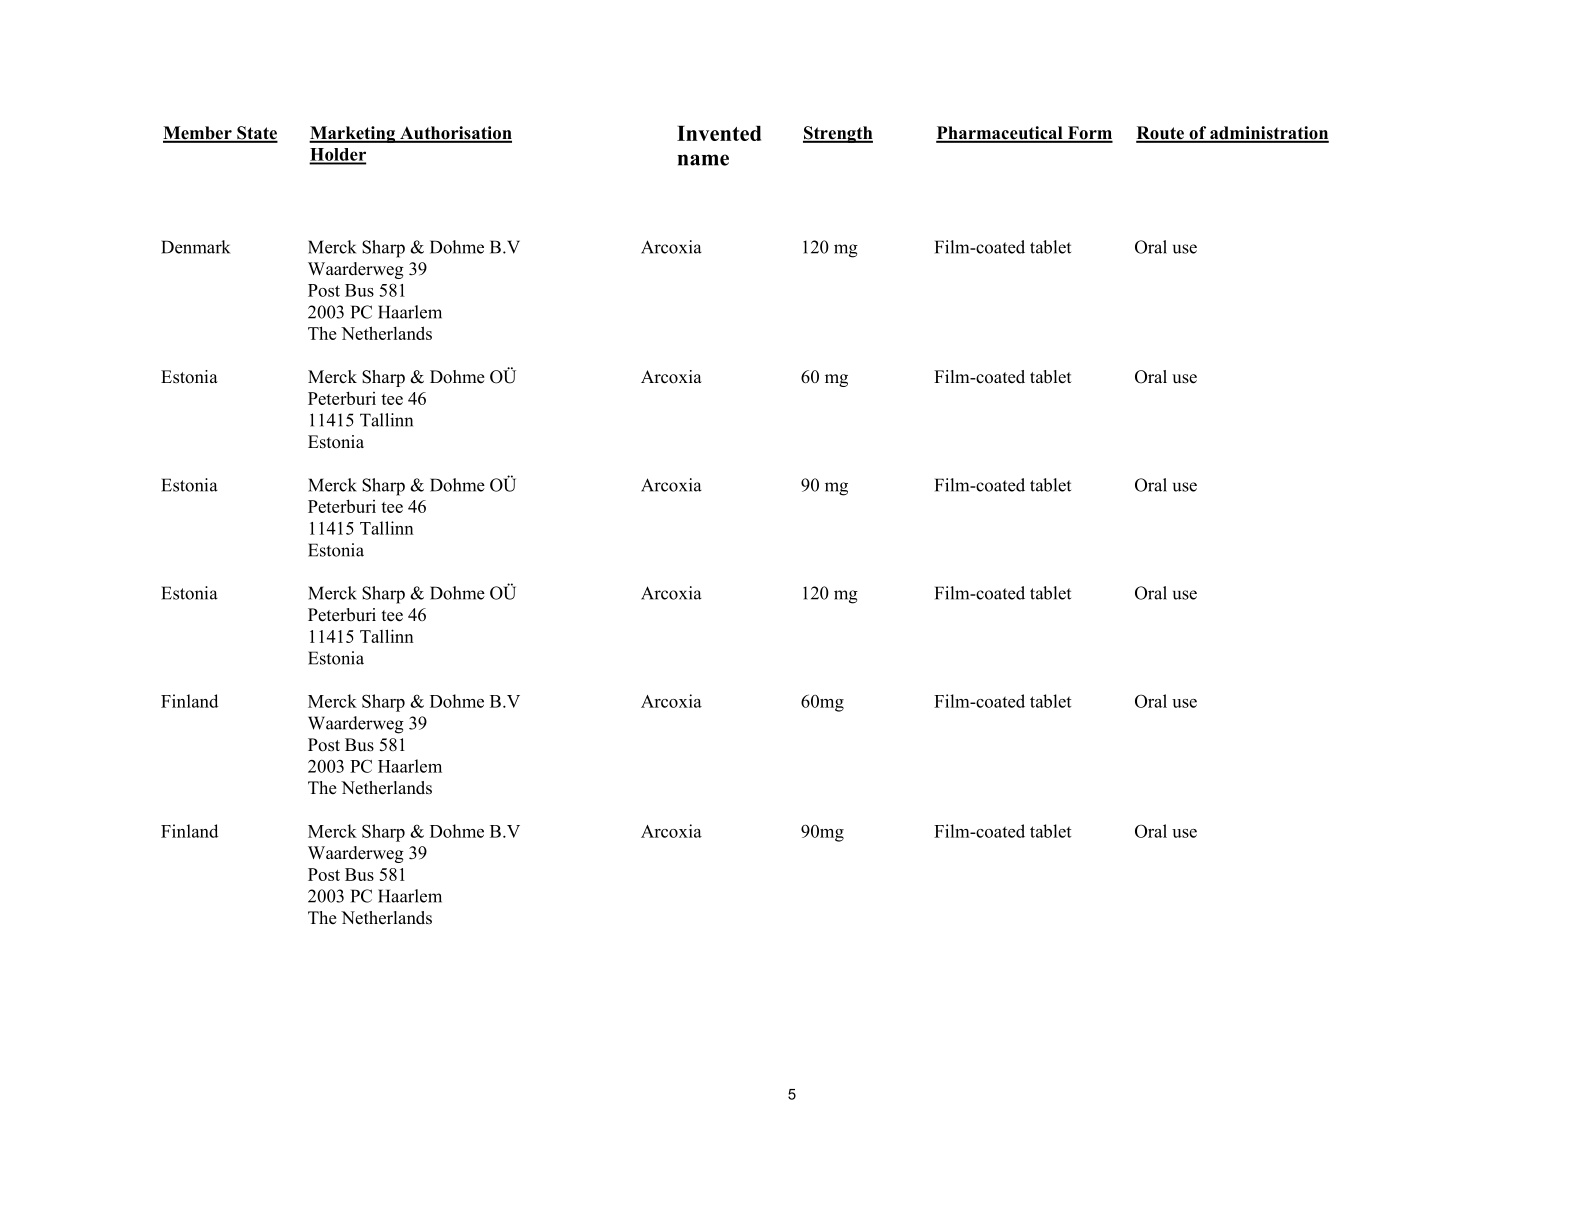nolines: (159, 120, 1335, 931)
